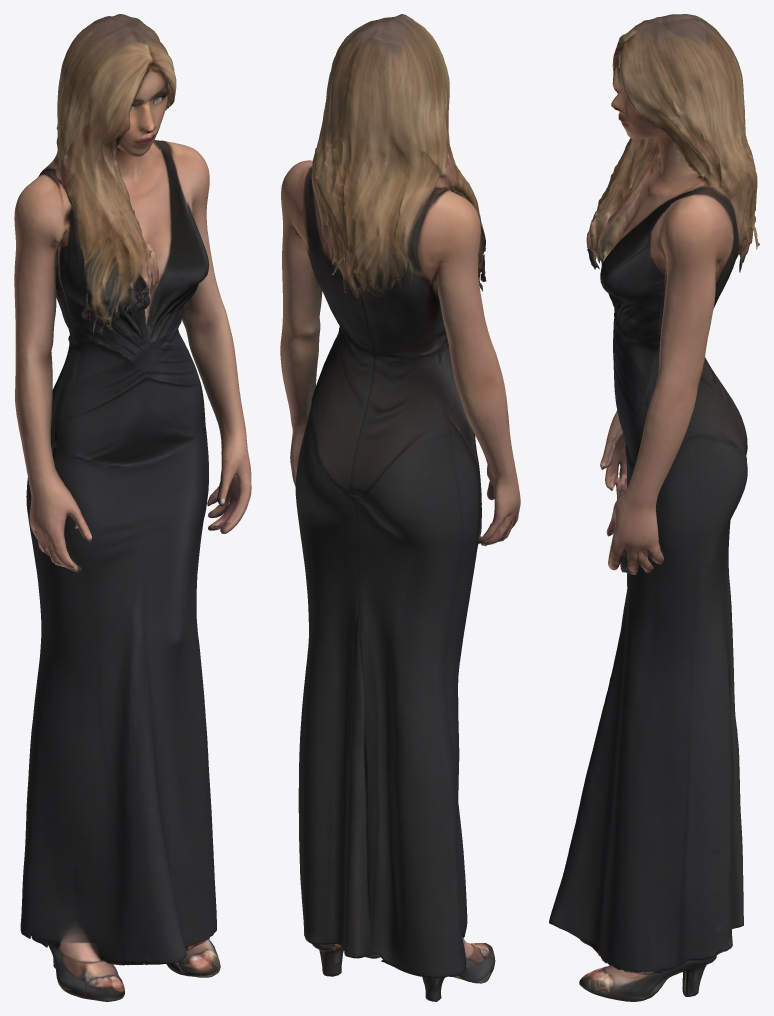
File: 3d__model_of_a_blonde_woman.glb
3 views of the same model, side by side, from view 1: azimuth 30°, elevation 25°; view 2: azimuth 150°, elevation 25°; view 3: azimuth 270°, elevation 25° (orthographic). The views are drawn at different scales.
Visible parts, largest first — view 1: Object_4, Object_5; view 2: Object_4, Object_5; view 3: Object_4, Object_5.
Part boxes in pixels (x1=…): Object_4: x1=14, y1=14, x2=251, y2=1001; Object_5: x1=14, y1=20, x2=250, y2=994; Object_4: x1=280, y1=14, x2=520, y2=1001; Object_5: x1=281, y1=14, x2=517, y2=998; Object_4: x1=549, y1=14, x2=759, y2=1001; Object_5: x1=552, y1=16, x2=755, y2=998.
Bounding box in the file's own units: 0.4808 × 2 × 0.4013.
1 material, 1 textured.
